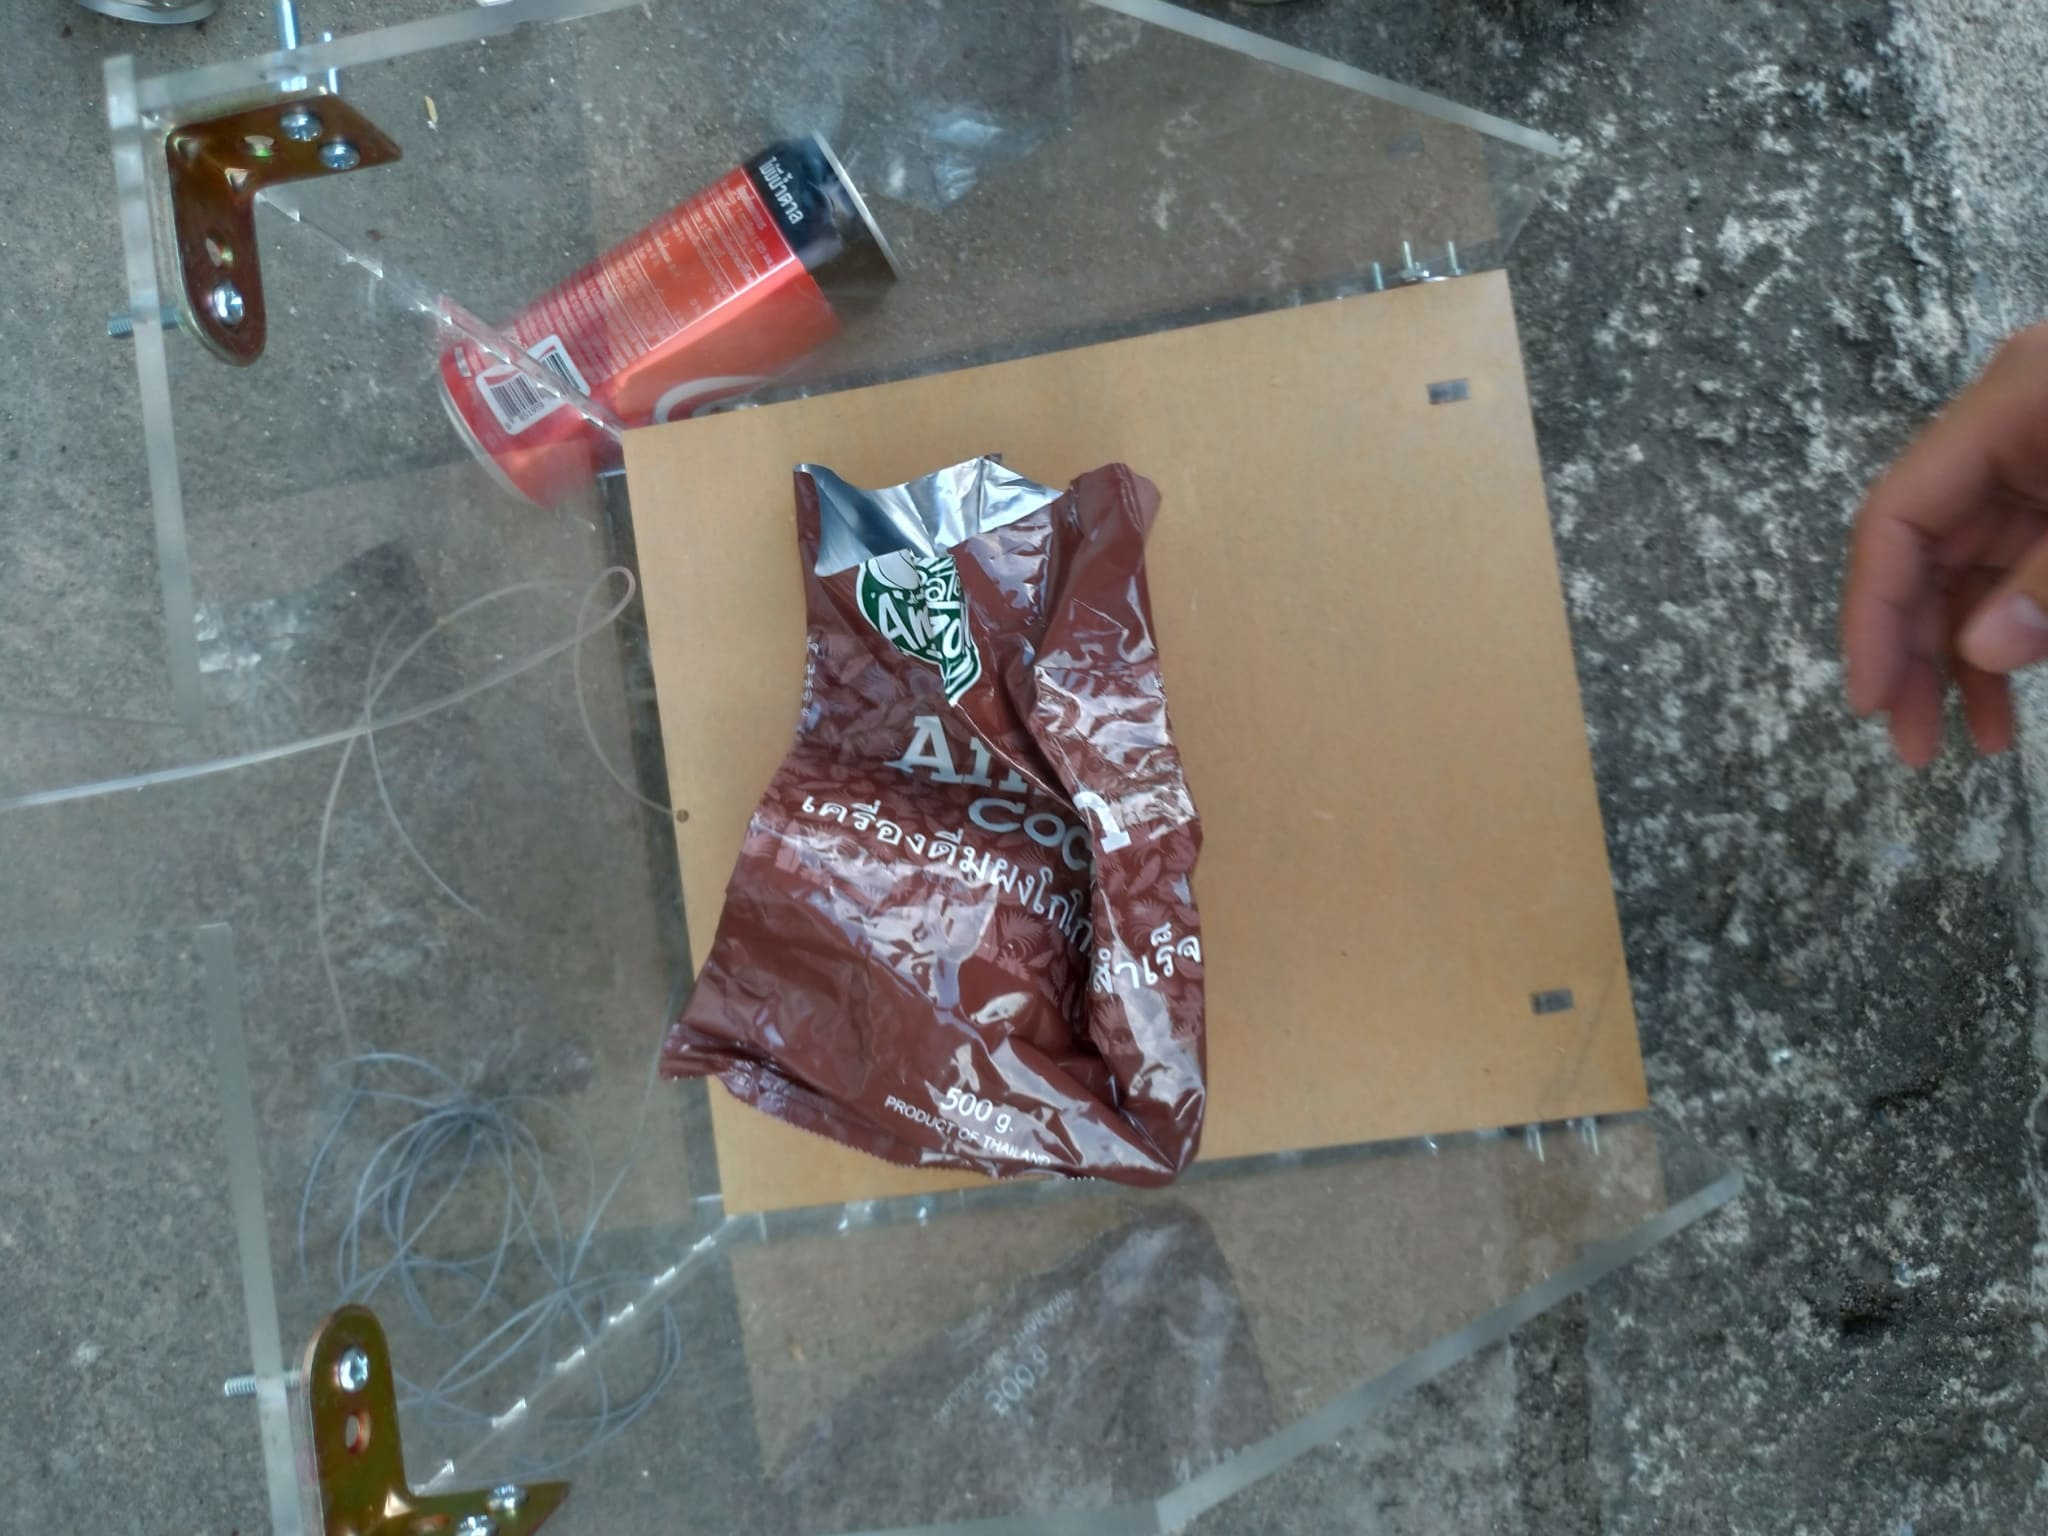AlCan: (432, 132, 898, 510)
Others: (653, 453, 1211, 1192)
